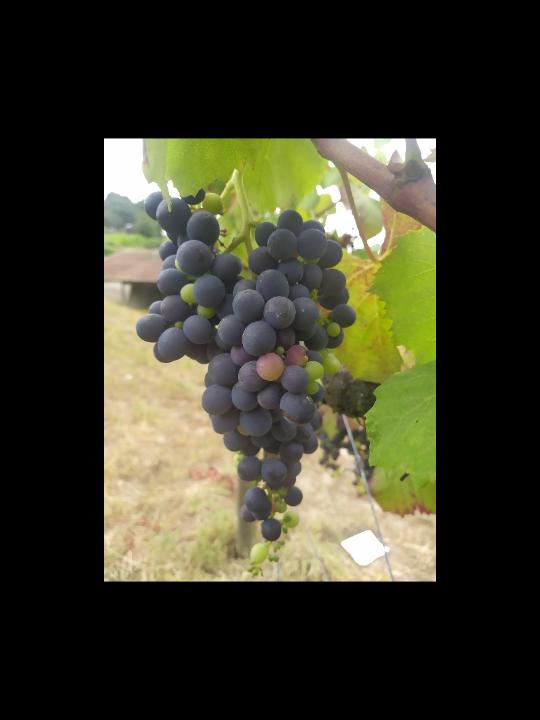grape: (136, 190, 356, 577)
